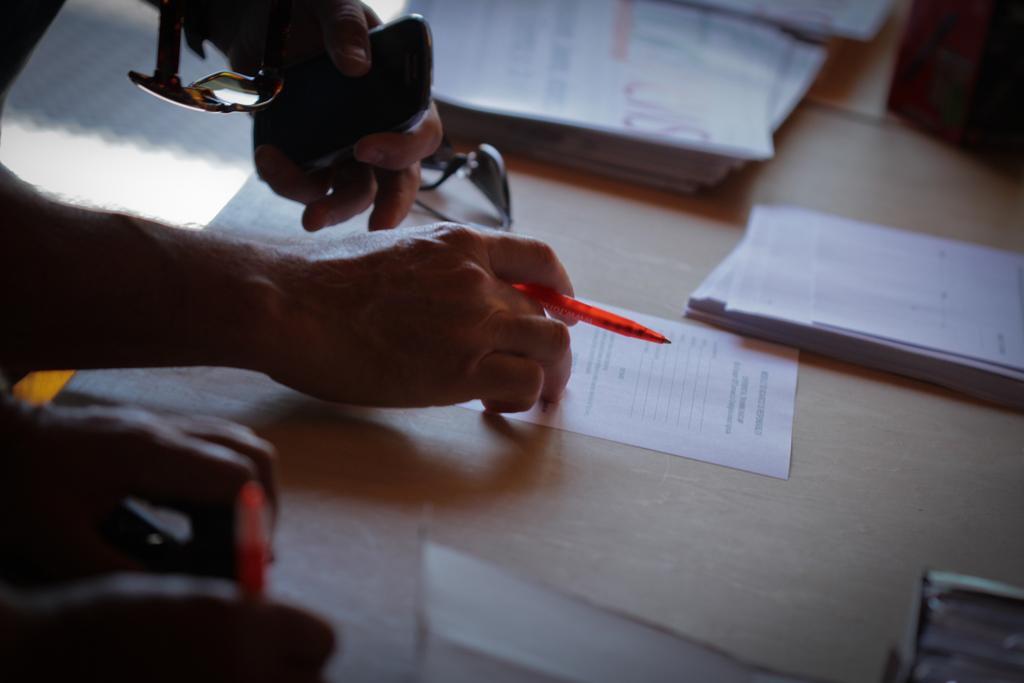pen: (510, 278, 671, 349)
